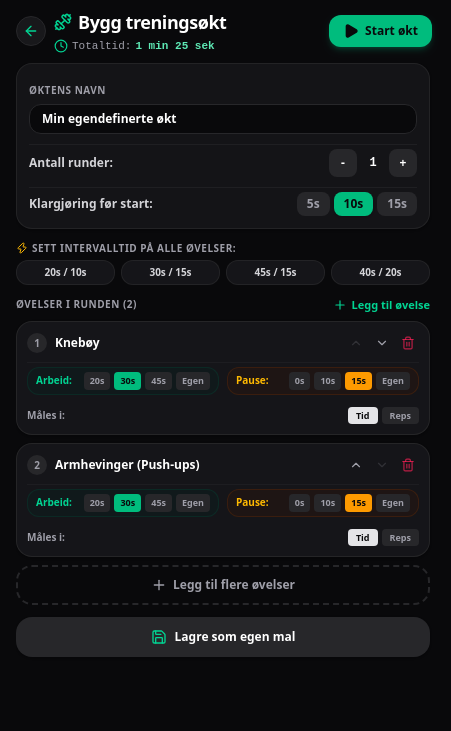
Programbyggeren — fri varighet per øvelse › lar brukeren sette 1 minutt og 40 sekunder som arbeidstid
Expected: the text "1 min 25 sek" is shown, x1=135 y1=38 x2=215 y2=54
Click the 1st button "Egen".
click(193, 381)  # box x1=176 y1=372 x2=210 y2=390
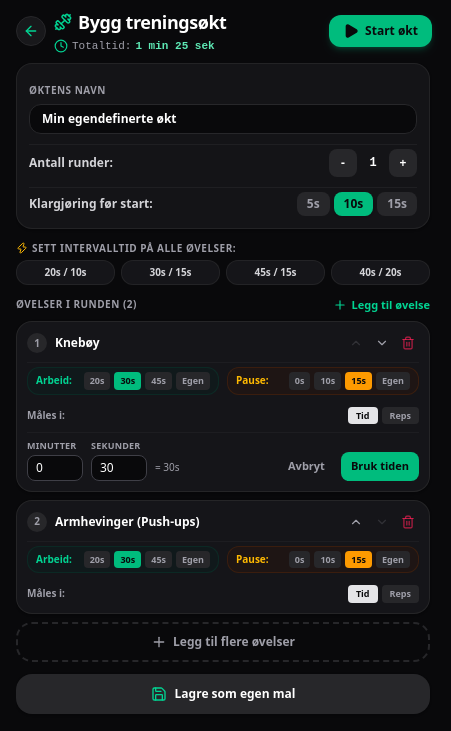
Replace the text in the number field labelled "Minutter" with "1" at (55, 468), box x1=27 y1=454 x2=83 y2=480
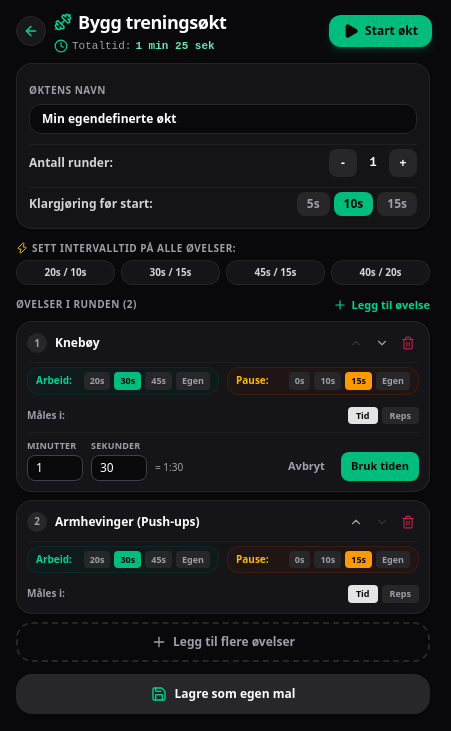
Replace the text in the number field labelled "Sekunder" with "40" at (119, 468), box x1=91 y1=454 x2=147 y2=480
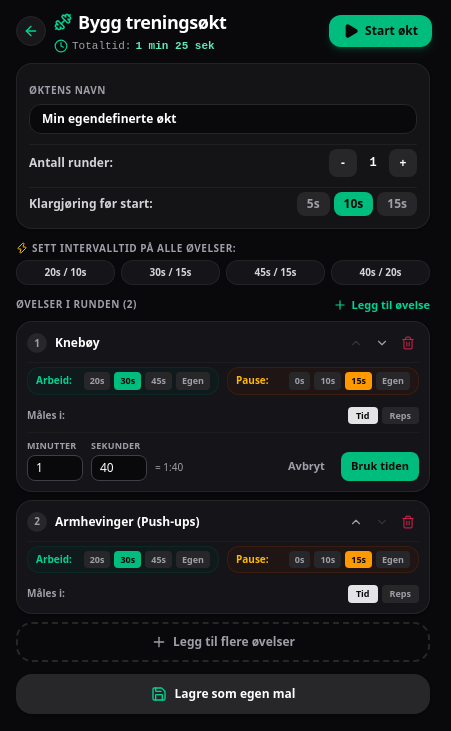
Click the button "Bruk tiden".
click(380, 466)  # box x1=341 y1=452 x2=419 y2=480
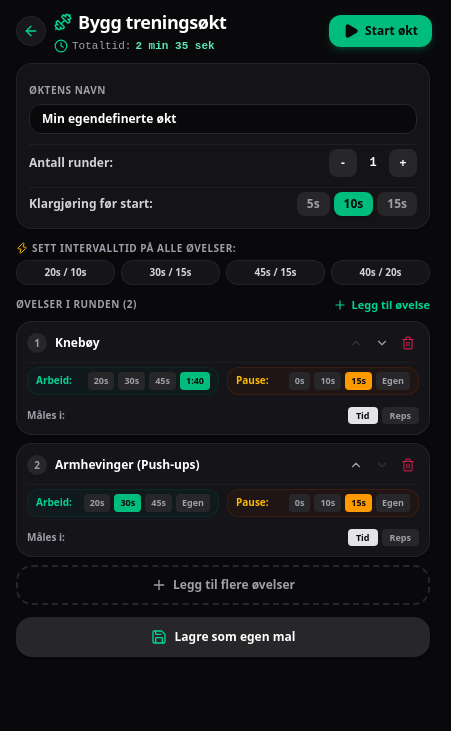
Expected: the text "2 min 35 sek" is shown, x1=135 y1=38 x2=215 y2=54
